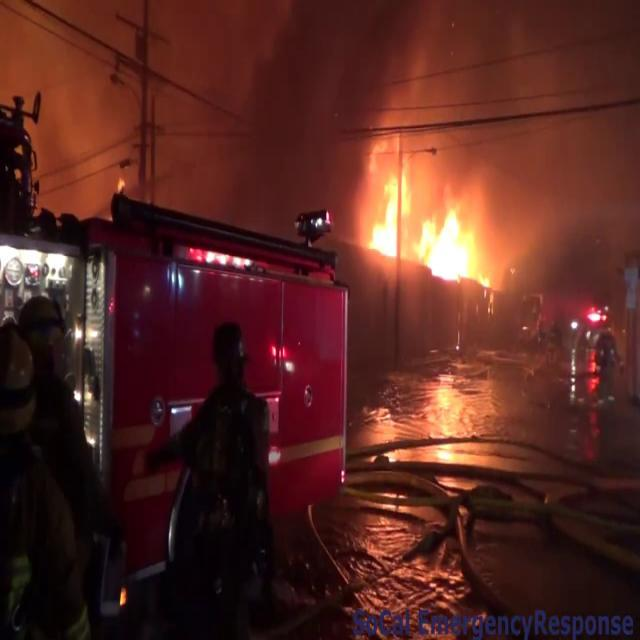Fire: (360, 155, 494, 281)
Smoke: (2, 0, 591, 183)
